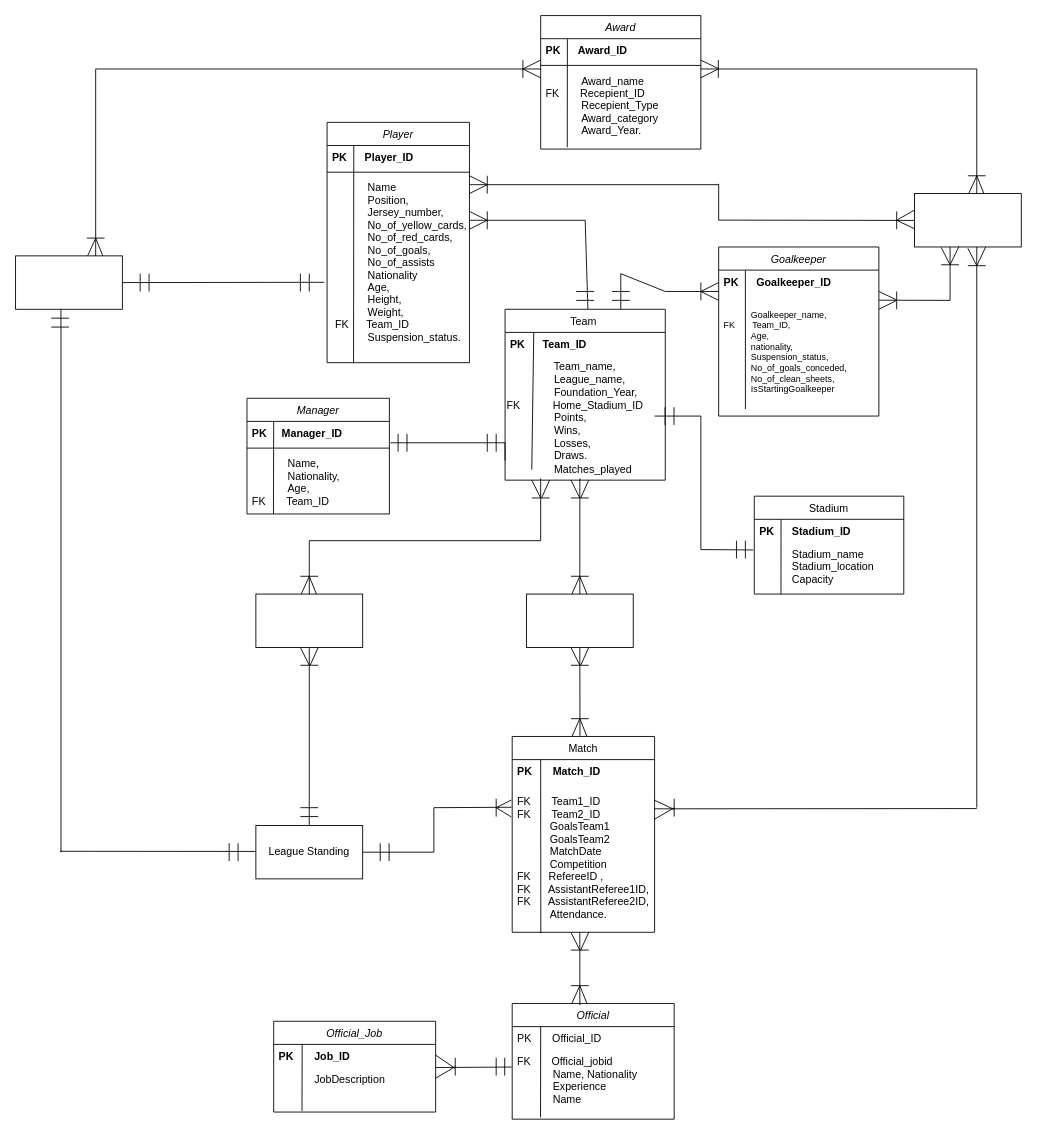
Some shapes in this 1037 by 1137 pixel diagram are drawn without their labels. The centre of each missing label's shape, as x and y in pixels:
"Awards" goes at (68,282).
"Player Statistics" goes at (967,220).
"Players_list" goes at (579,620).
"Relegated teams" goes at (309,620).
